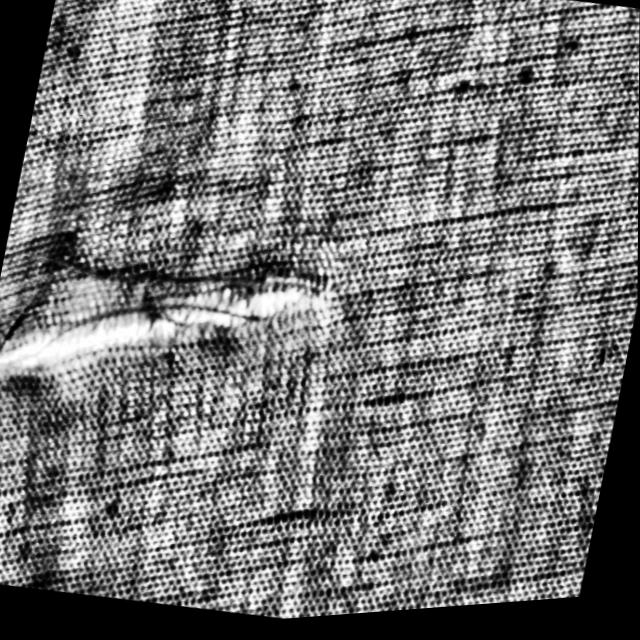Hole: (0, 220, 337, 441)
